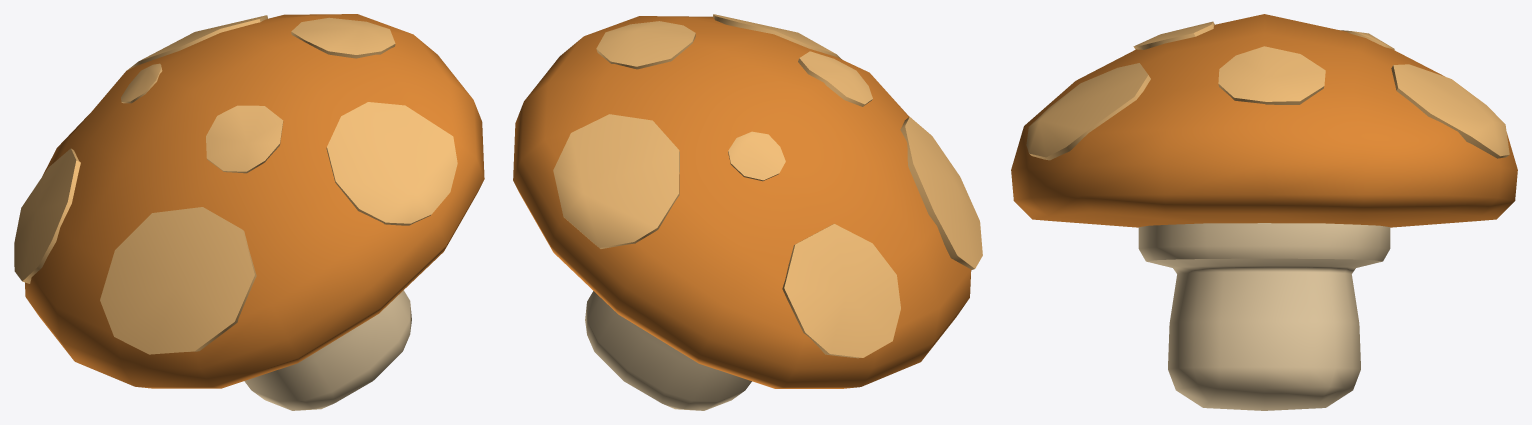
3 renders of one model, left to right at view 1: azimuth 30°, elevation 25°; view 2: azimuth 150°, elevation 25°; view 3: azimuth 270°, elevation 25°, orthographic. The views are drawn at different scales.
Visible parts, largest first — view 1: model_0.048; view 2: model_0.048; view 3: model_0.048.
Boxes of the visible parts, x1,y1,x2,y2 form: model_0.048: (14, 14, 484, 410); model_0.048: (513, 14, 982, 410); model_0.048: (1011, 14, 1517, 410).
Bounding box in the file's own units: 3.99 × 3.43 × 4.29.
